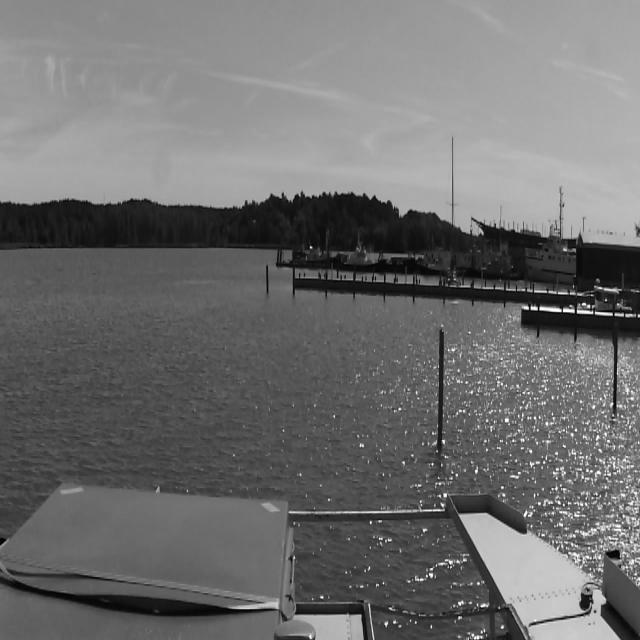ship: (525, 184, 577, 277), (342, 249, 378, 272)
